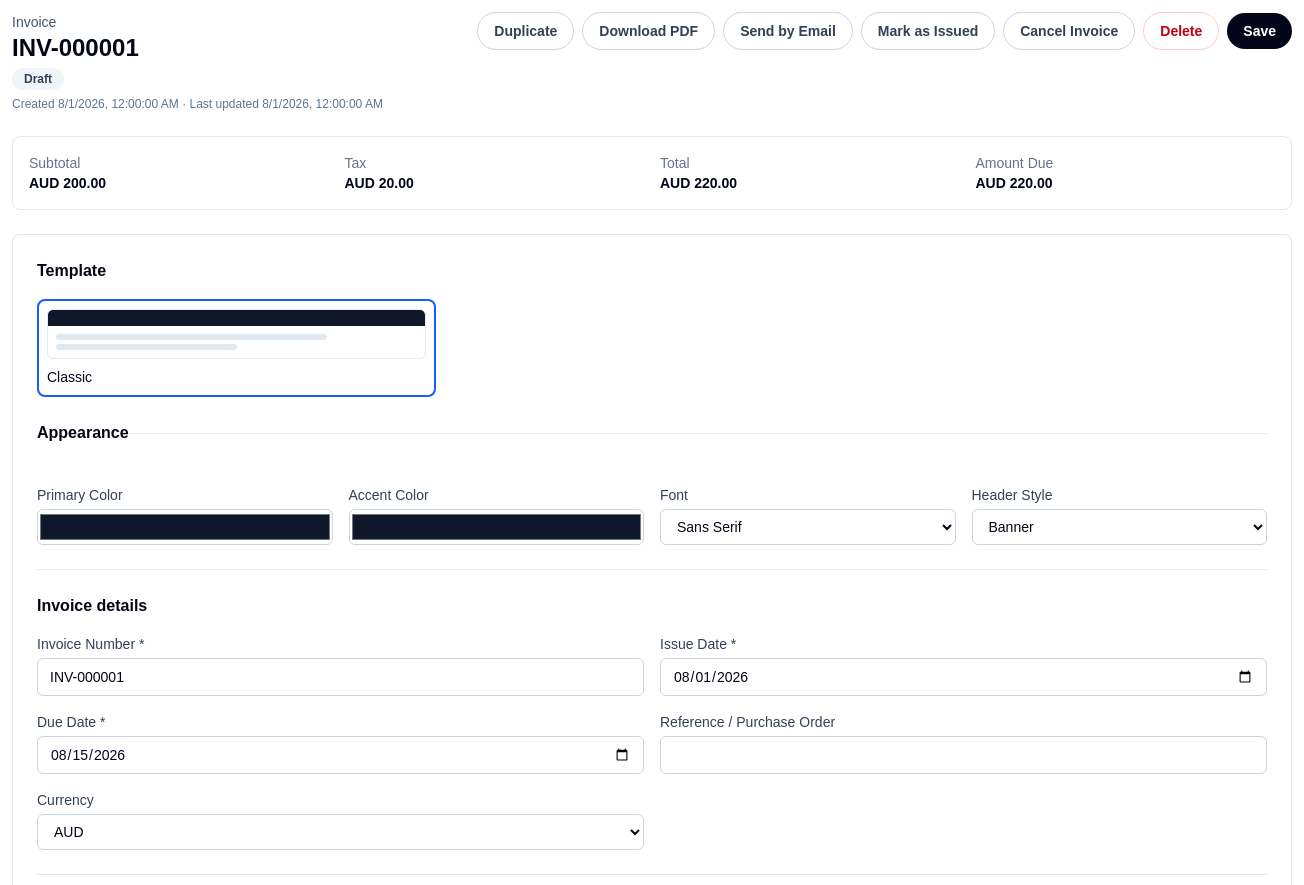
Scenario: InvoiceDetail › saves changes and shows a Saved status
Step 1. Click the button "Save" → click(1260, 31), box [1227,13,1292,49]
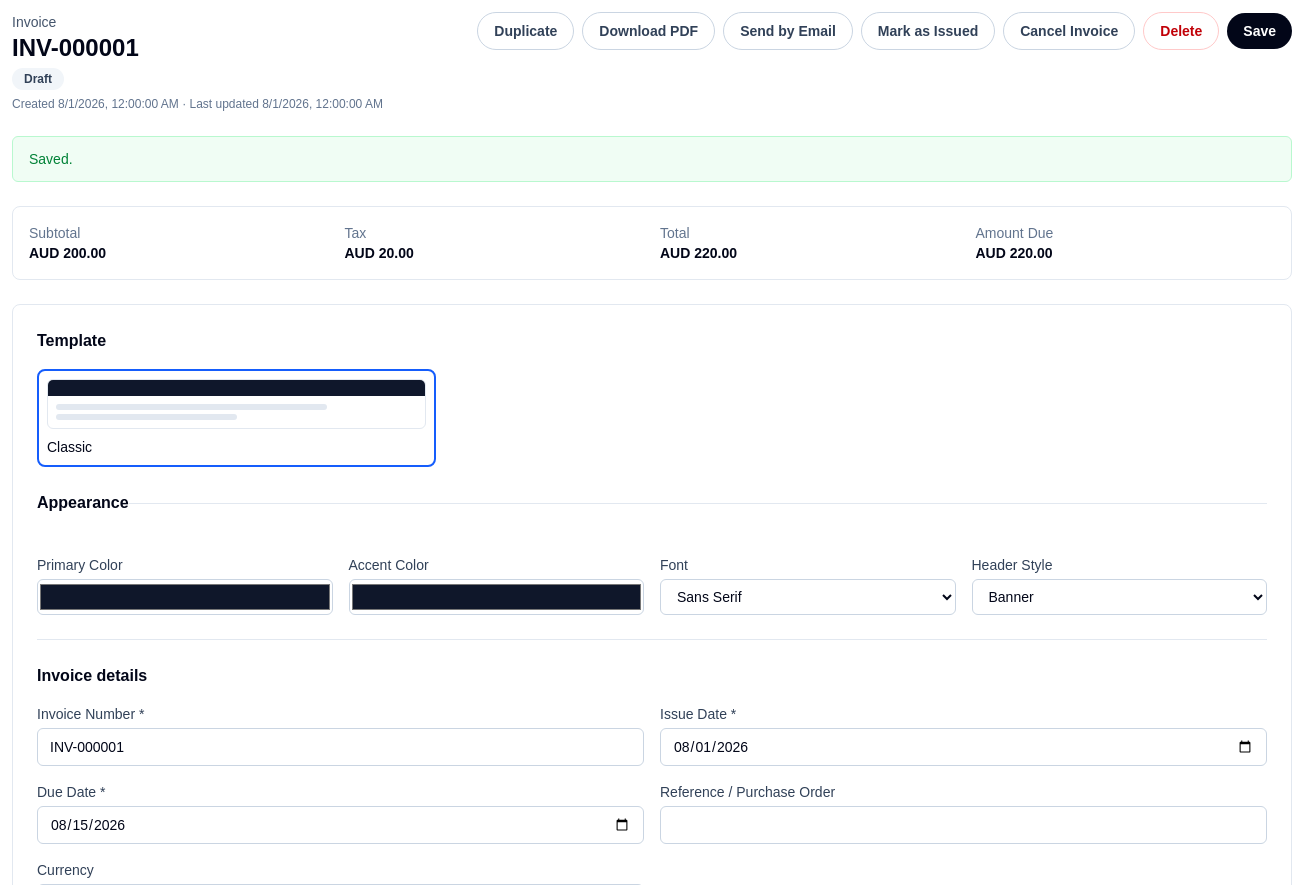
Result: the message reads "Saved." at [29,151,73,167]
